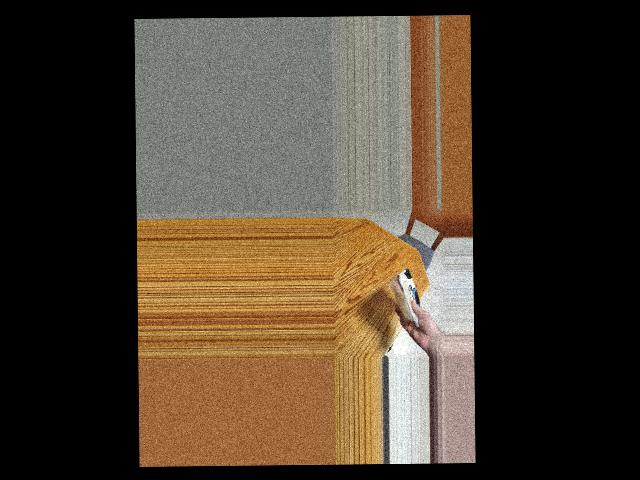cheese: (386, 270, 430, 321)
